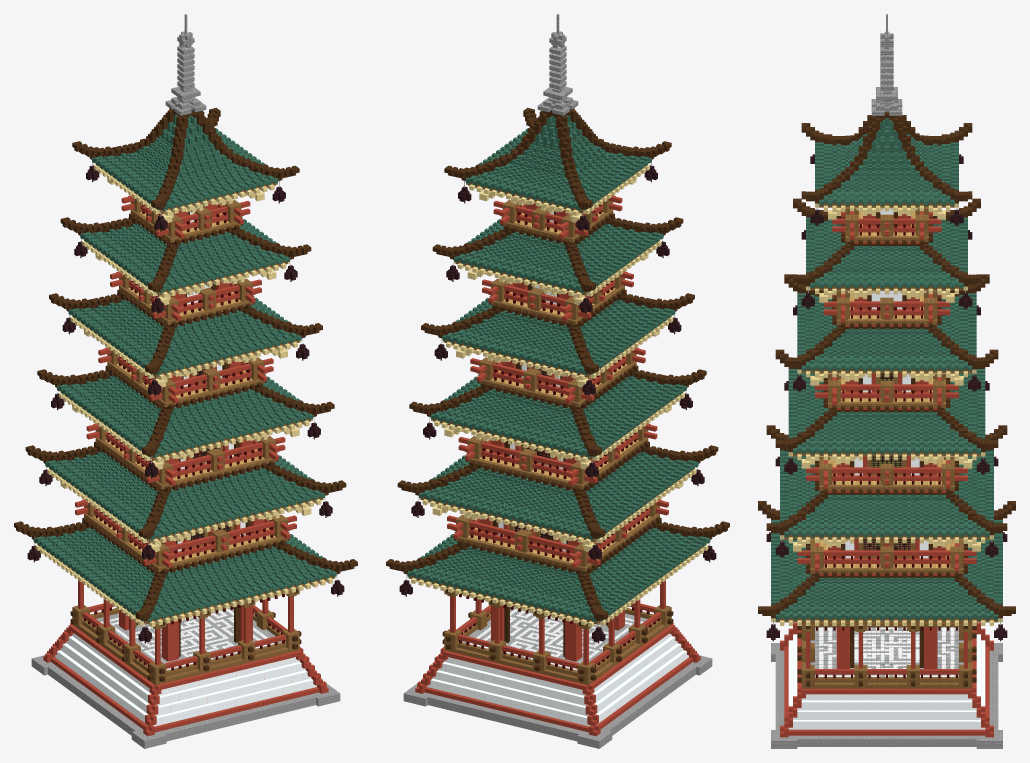
File: pagoda.glb
3 views of the same model, side by side, from view 1: azimuth 30°, elevation 25°; view 2: azimuth 150°, elevation 25°; view 3: azimuth 270°, elevation 25° (orthographic). The views are drawn at different scales.
Parts seen in each view (by area): view 1: Object_20, Object_21, Object_4, Object_16, Object_18, Object_15, Object_6, Object_23, Object_17, Object_9, Object_19, Object_3 (+6 smaller); view 2: Object_20, Object_21, Object_4, Object_16, Object_18, Object_15, Object_6, Object_23, Object_17, Object_9, Object_19, Object_3 (+6 smaller); view 3: Object_20, Object_21, Object_15, Object_4, Object_18, Object_23, Object_6, Object_17, Object_5, Object_9, Object_19, Object_16 (+7 smaller).
Boxes of the visible parts, box(x1,y1,x2,y2) form: Object_20: box(35, 115, 332, 619); Object_21: box(33, 122, 336, 622); Object_4: box(43, 195, 328, 736); Object_16: box(59, 165, 276, 685); Object_18: box(37, 107, 357, 669); Object_15: box(35, 108, 354, 670); Object_6: box(55, 208, 316, 726); Object_23: box(31, 47, 340, 748); Object_17: box(16, 143, 336, 681); Object_9: box(90, 136, 278, 580); Object_19: box(14, 189, 311, 648); Object_3: box(84, 14, 284, 670); Object_20: box(411, 115, 708, 619); Object_21: box(407, 122, 710, 622); Object_4: box(415, 195, 700, 736); Object_16: box(467, 165, 696, 685); Object_18: box(386, 107, 706, 669); Object_15: box(389, 108, 708, 670); Object_6: box(427, 208, 688, 726); Object_23: box(403, 47, 712, 748); Object_17: box(407, 143, 727, 681); Object_9: box(465, 136, 653, 580); Object_19: box(432, 187, 729, 648); Object_3: box(459, 14, 659, 670); Object_20: box(771, 118, 1002, 618); Object_21: box(775, 126, 998, 620); Object_15: box(762, 112, 1011, 688); Object_4: box(780, 211, 993, 737); Object_18: box(758, 123, 1015, 672); Object_23: box(771, 60, 1002, 748); Object_6: box(788, 208, 985, 729); Object_17: box(758, 127, 1015, 625); Object_5: box(784, 222, 989, 711); Object_9: box(819, 134, 954, 585); Object_19: box(758, 198, 1015, 650); Object_16: box(801, 212, 972, 642).
Size of the model in its own units: 0.3391 by 0.9943 by 0.3391.
Materials: 21 (21 with a texture image).
